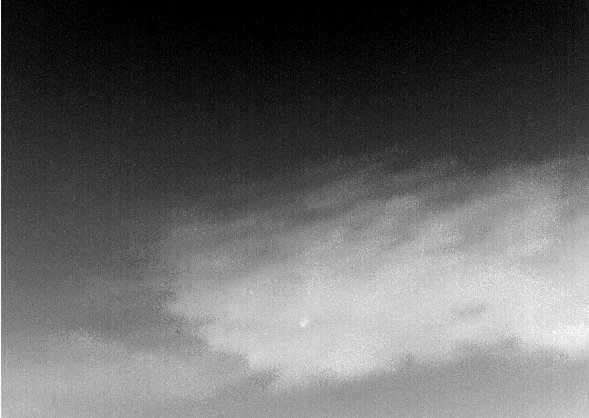dim target: (299, 322, 307, 329)
